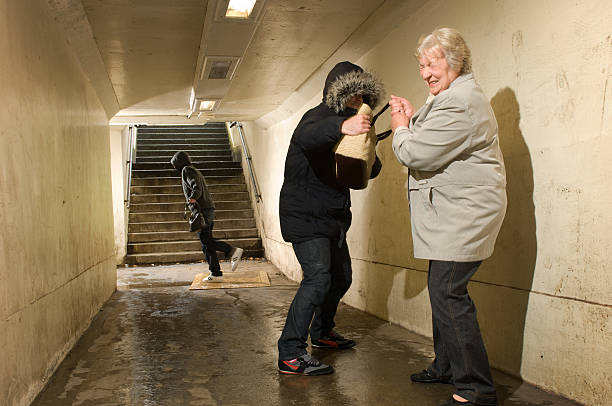16: (174, 151, 244, 281)
36: (293, 338, 357, 375)
handguns: (387, 25, 508, 402), (276, 60, 391, 376), (173, 151, 245, 281)
